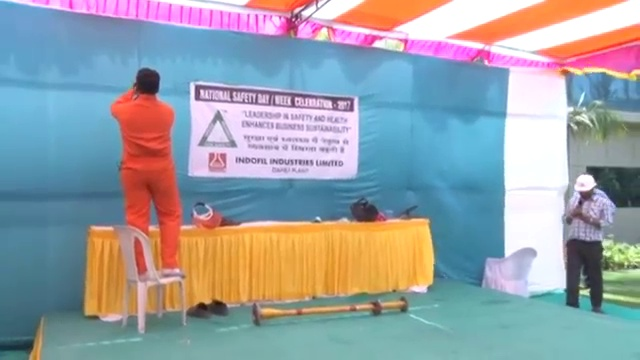helmet: (571, 172, 599, 192)
helmet_off: (136, 66, 161, 95)
helmet_on: (570, 170, 599, 202)
person: (108, 64, 190, 279), (562, 172, 610, 314)
